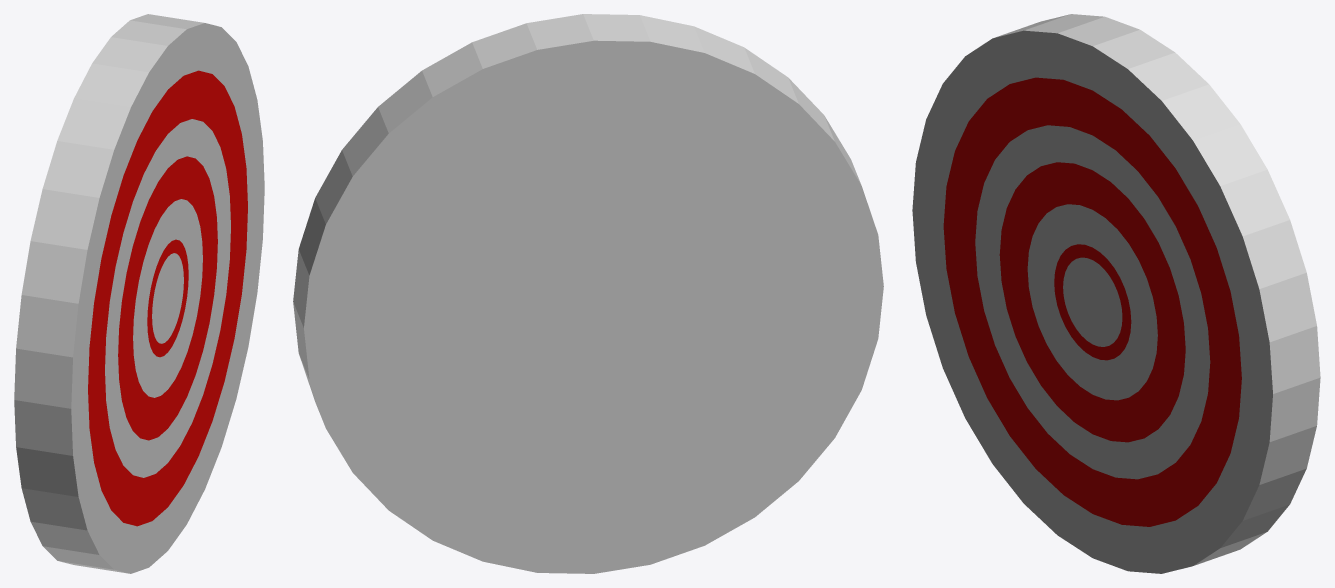
Rendered from Alvo.fbx.
3 renders of one model, left to right at view 1: azimuth 30°, elevation 25°; view 2: azimuth 150°, elevation 25°; view 3: azimuth 270°, elevation 25°, orthographic. The views are drawn at different scales.
Parts seen in each view (by area): view 1: Cylinder; view 2: Cylinder; view 3: Cylinder.
Part boxes in pixels (x1,y1,x2,y2): Cylinder: (14, 14, 264, 573); Cylinder: (293, 14, 883, 573); Cylinder: (912, 14, 1320, 573).
Bounding box in the file's own units: 437 × 521 × 376.
